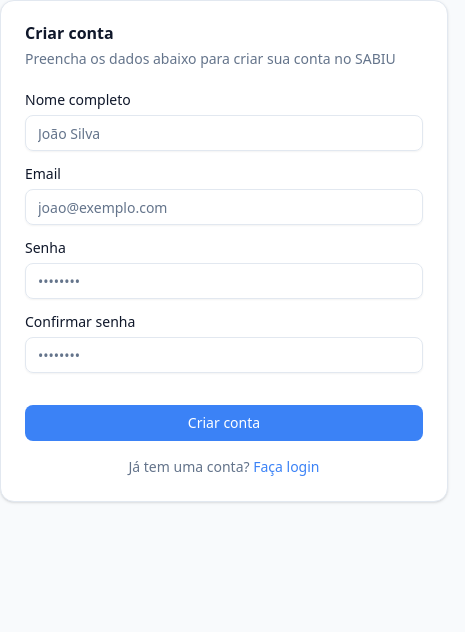
Test case: SignUpForm › deve validar requisitos de senha
The image size is (465, 632).
Type "weak" into the password field labelled "Senha" at (224,281), box left=25, top=263, right=423, bottom=299
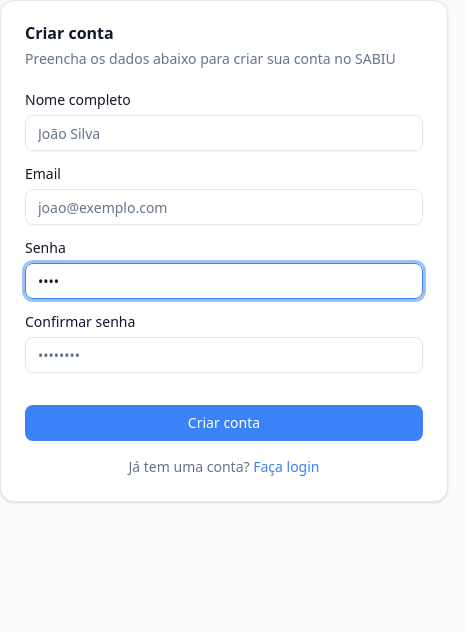
Click the button "Criar conta" at (224,423), box left=25, top=405, right=423, bottom=441
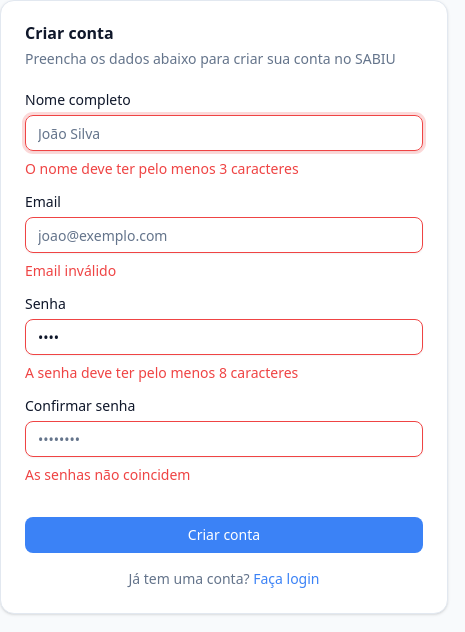
Expected: the text "A senha deve ter pelo menos 8 caracteres" is shown, left=25, top=363, right=298, bottom=382
